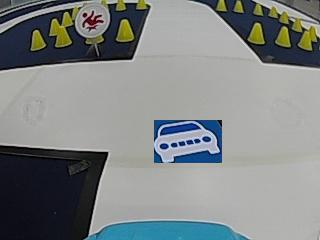cone: (115, 19, 133, 42), (247, 22, 265, 44), (54, 25, 70, 47), (29, 29, 45, 50), (275, 26, 290, 47), (298, 30, 311, 50), (49, 17, 58, 35), (253, 2, 263, 16), (268, 4, 278, 18), (292, 17, 302, 31), (279, 9, 288, 24), (216, 0, 227, 12), (233, 1, 243, 13), (136, 0, 147, 10), (115, 0, 125, 11)
tumble: (77, 5, 107, 34)
